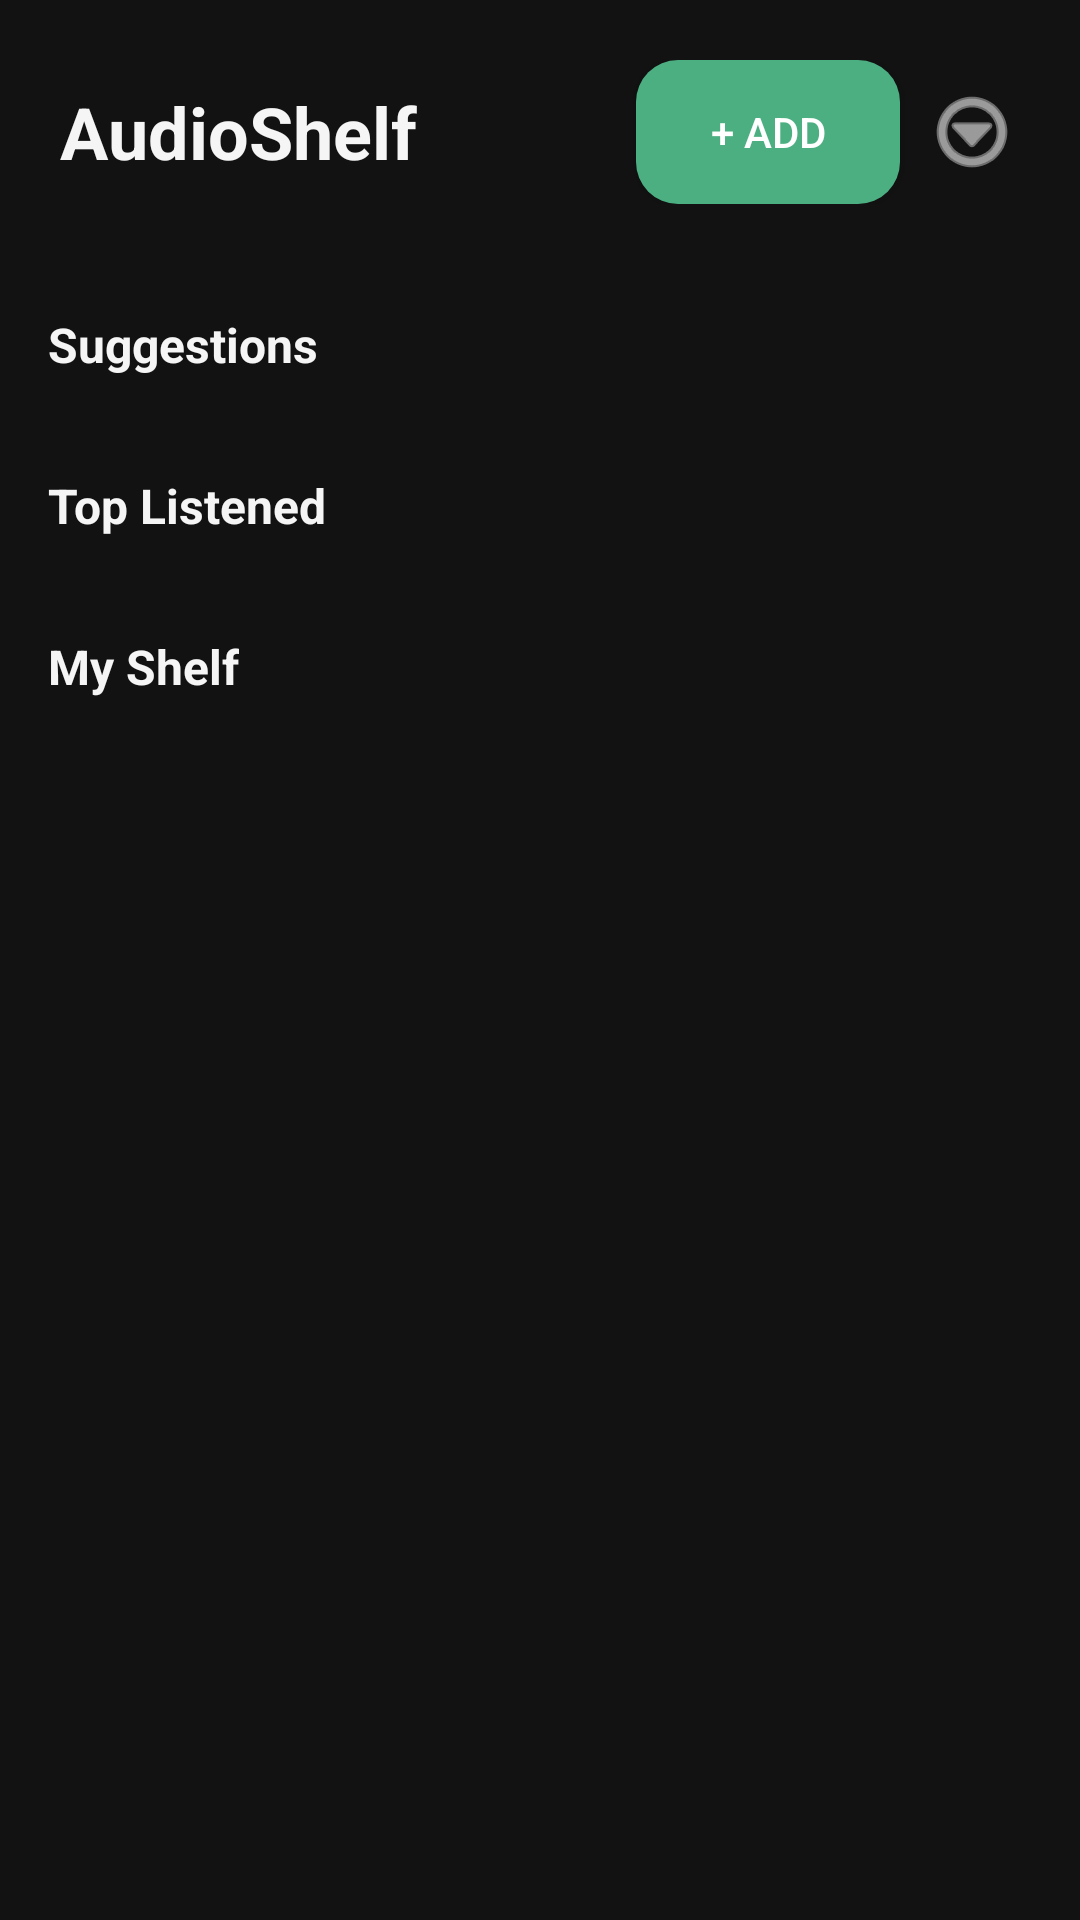

Point at icon controls on the screen. Image size 1080x1920, points as [x,y].
more: [972,132]
